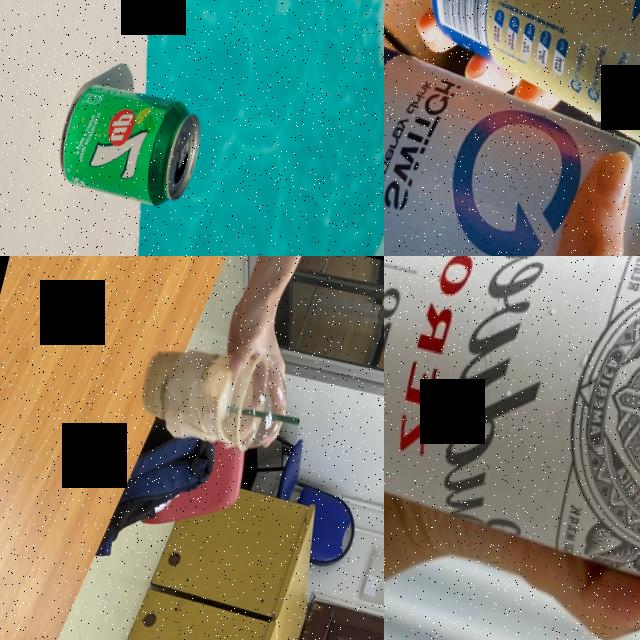can: (384, 256, 640, 630), (384, 4, 640, 256), (396, 0, 640, 189), (50, 72, 208, 212)
cup: (130, 327, 296, 459)
